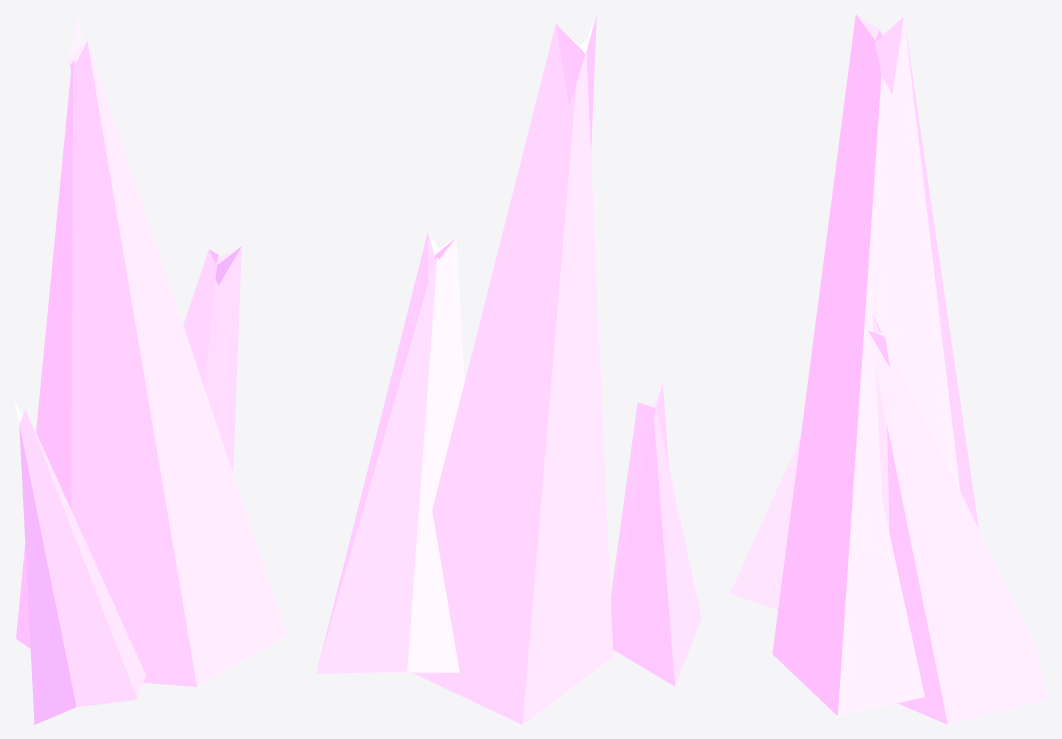
The model's file is TC_ENV_AlienShard_EmbeddedCluster_V1.gltf.
3 renders of one model, left to right at view 1: azimuth 30°, elevation 25°; view 2: azimuth 150°, elevation 25°; view 3: azimuth 270°, elevation 25°, orthographic. The views are drawn at different scales.
Parts seen in each view (by area): view 1: TC_ENV_AlienShard_EmbeddedCluster_V1; view 2: TC_ENV_AlienShard_EmbeddedCluster_V1; view 3: TC_ENV_AlienShard_EmbeddedCluster_V1.
Boxes of the visible parts, x1,y1,x2,y2 form: TC_ENV_AlienShard_EmbeddedCluster_V1: (14,15,287,724); TC_ENV_AlienShard_EmbeddedCluster_V1: (316,15,701,724); TC_ENV_AlienShard_EmbeddedCluster_V1: (730,14,1047,724).
Bounding box in the file's own units: 0.7308 × 1.81 × 0.813.
